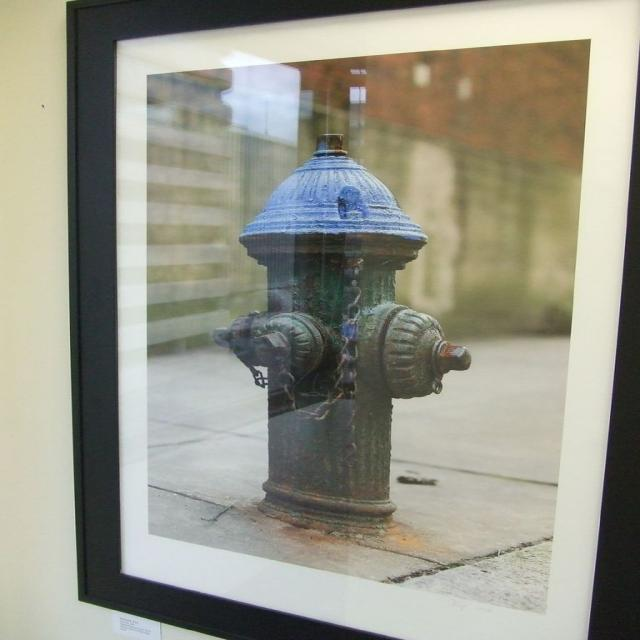fire_hydrant: (211, 134, 473, 532)
